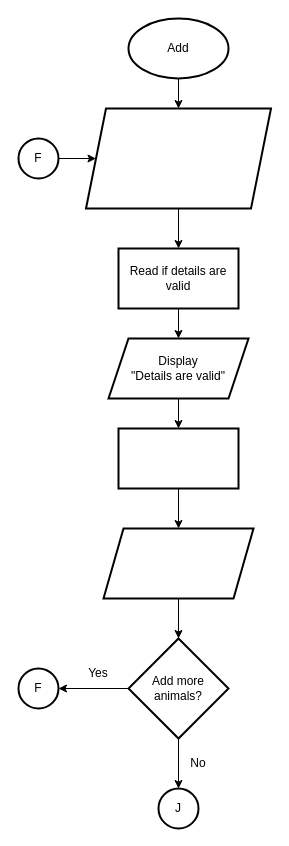
This 289x846 diagram has some shape labels left out. Here are the shapes that lost their labels. From the top down, the centre of each, then its label:
the point at 178,158: Display "Input Details Name, Breed, Info, Quantity, Price(SRP), and Image"
the point at 178,458: Save to JSON file
the point at 178,563: Display "Added Successfully"
